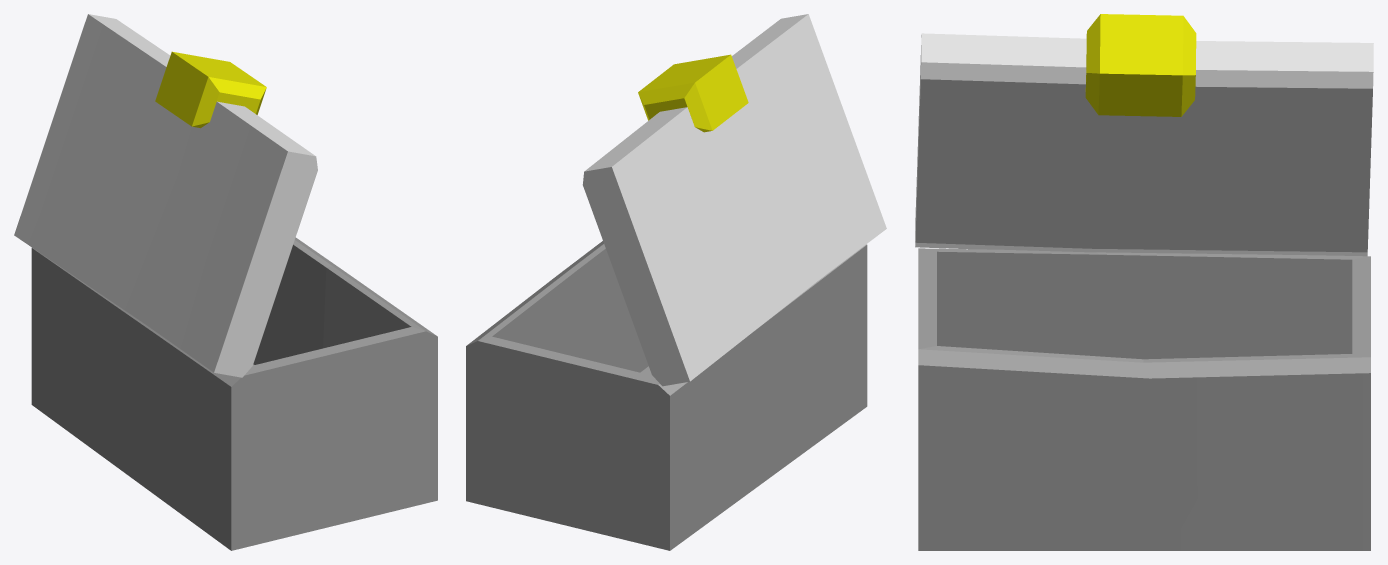
Rendered from BedRoom_ToyBox_Open.fbx.
3 views of the same model, side by side, from view 1: azimuth 30°, elevation 25°; view 2: azimuth 150°, elevation 25°; view 3: azimuth 270°, elevation 25° (orthographic). The views are drawn at different scales.
Parts seen in each view (by area): view 1: BedRoom_ToyBox_Open; view 2: BedRoom_ToyBox_Open; view 3: BedRoom_ToyBox_Open.
Boxes of the visible parts, x1,y1,x2,y2 form: BedRoom_ToyBox_Open: (14, 14, 437, 550); BedRoom_ToyBox_Open: (466, 14, 886, 550); BedRoom_ToyBox_Open: (915, 14, 1373, 550).
Size of the model in its own units: 50.84 by 84.22 by 77.02.
